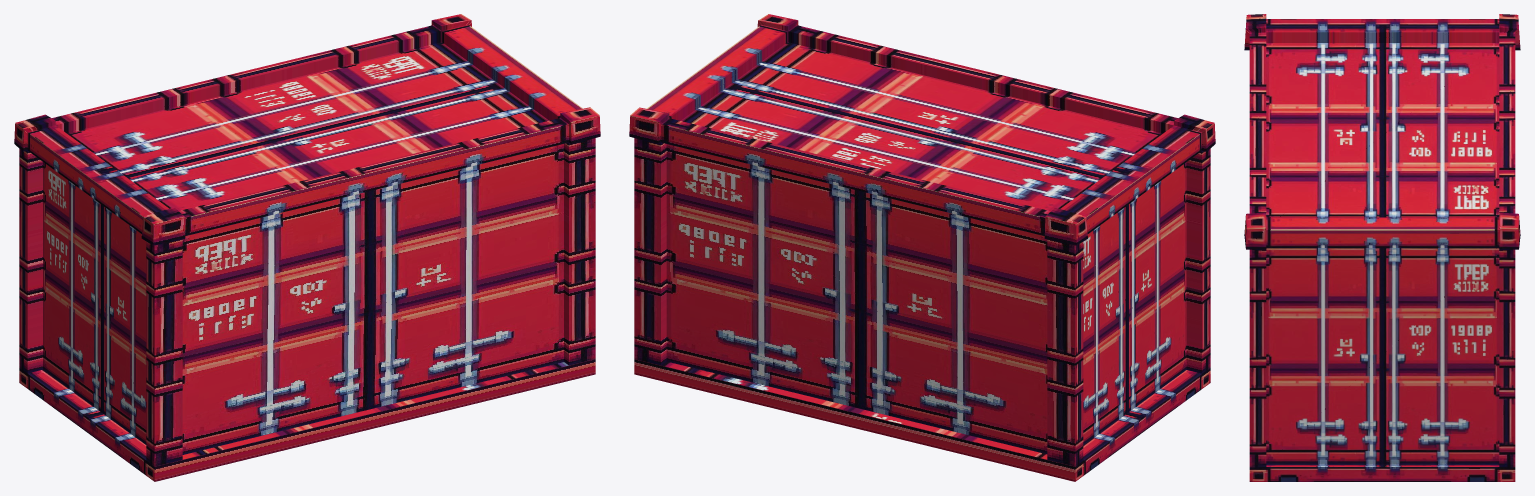
File: ShippingContainer.glb
3 renders of one model, left to right at view 1: azimuth 30°, elevation 25°; view 2: azimuth 150°, elevation 25°; view 3: azimuth 270°, elevation 25°, orthographic.
Parts seen in each view (by area): view 1: OIG2 (18); view 2: OIG2 (18); view 3: OIG2 (18).
Part boxes in pixels (x1=…): OIG2 (18): x1=14, y1=14, x2=600, y2=481; OIG2 (18): x1=629, y1=14, x2=1215, y2=481; OIG2 (18): x1=1244, y1=14, x2=1520, y2=481.
Bounding box in the file's own units: 1.21 × 0.6745 × 0.6575.
1 material, 1 textured.
